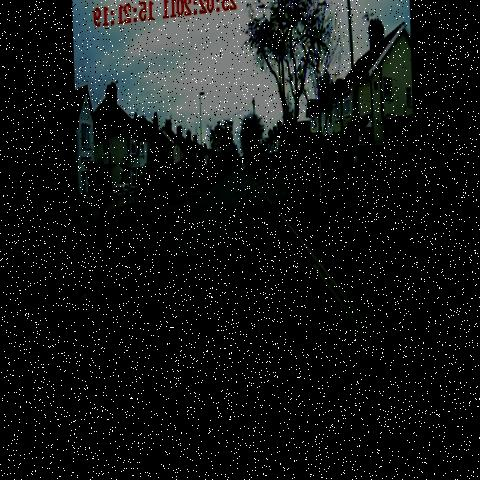pothole: (202, 264, 231, 306), (157, 343, 189, 378), (246, 217, 272, 250), (240, 192, 259, 211), (216, 208, 231, 224), (232, 192, 242, 207)
